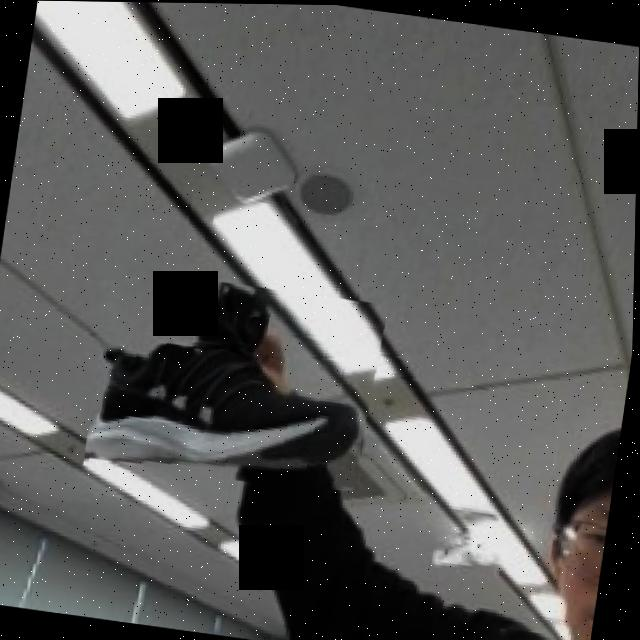shoe: (84, 266, 391, 502)
